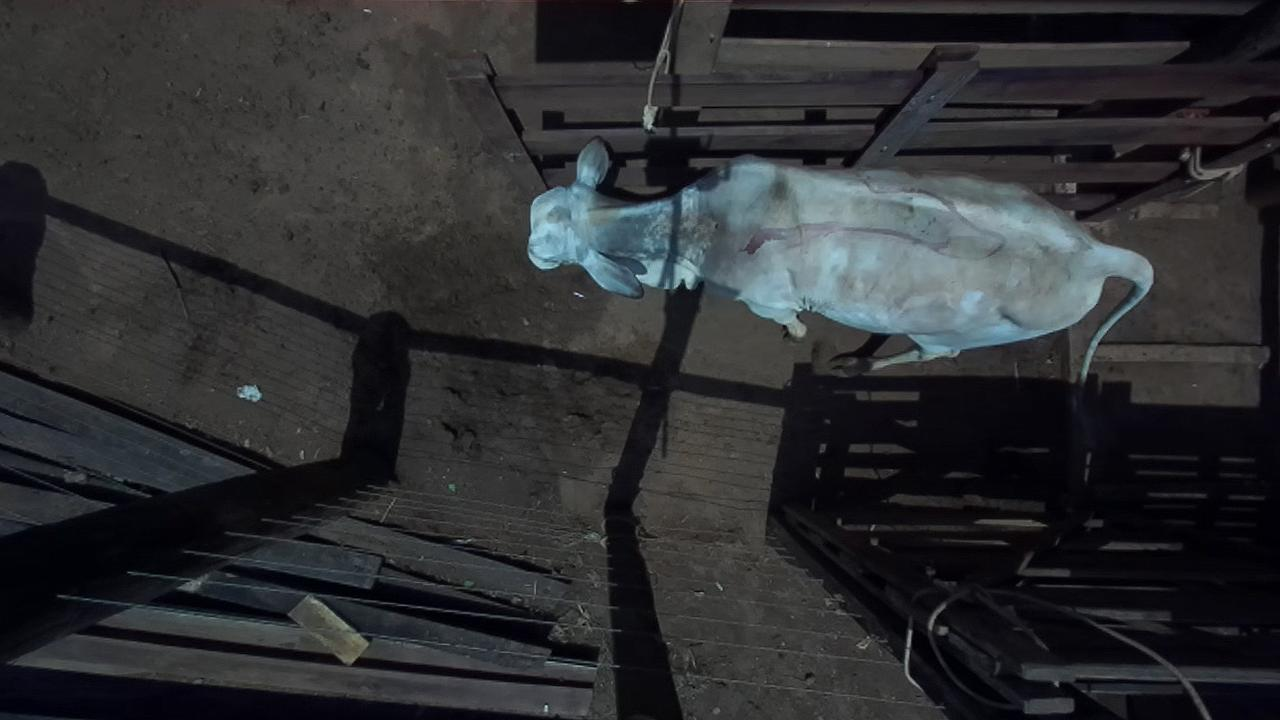cattle: (526, 134, 1154, 387)
